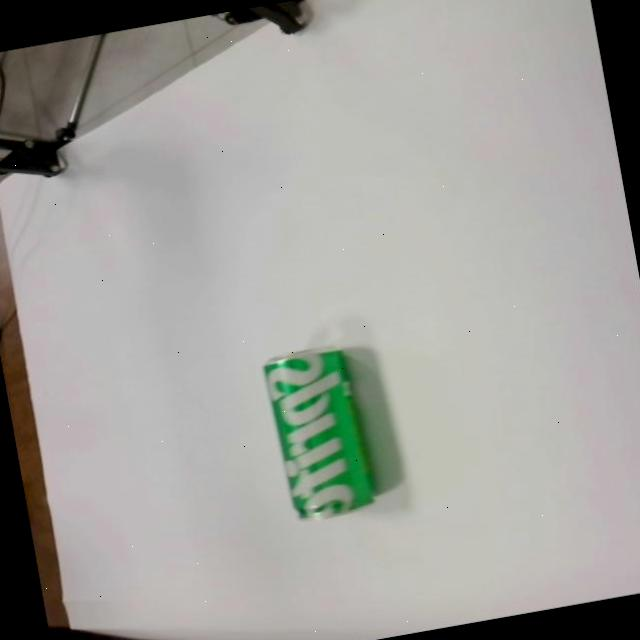debris: (258, 334, 410, 526)
